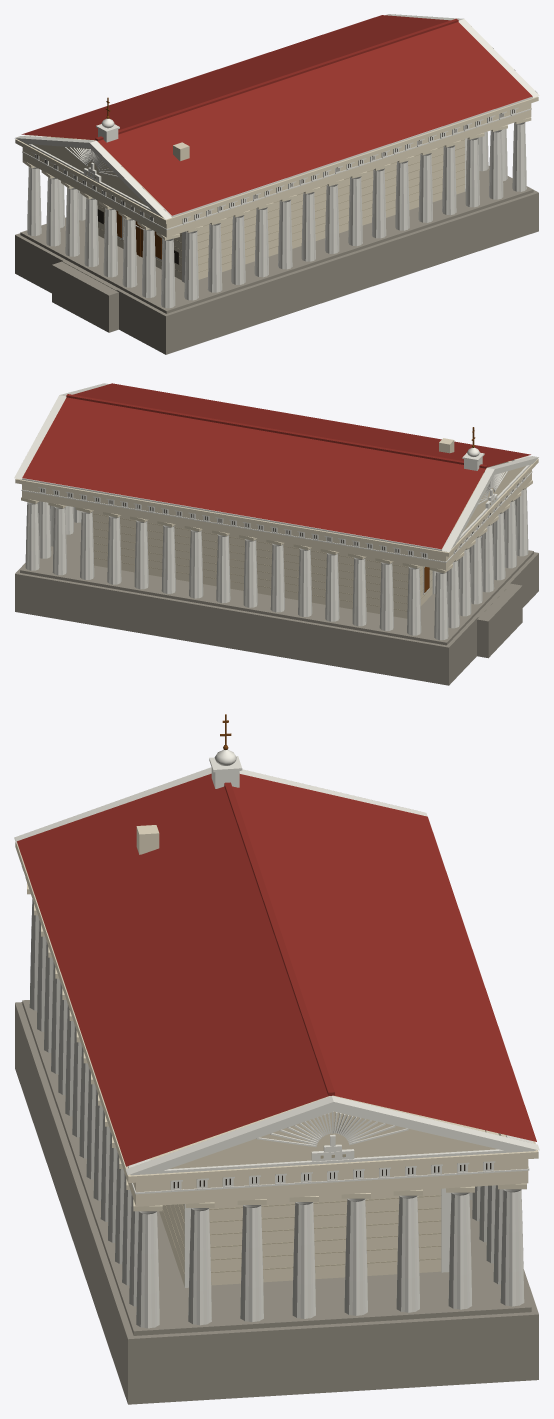
The model's file is petropavl_hram.glb.
3 views of the same model, one above another, from view 1: azimuth 30°, elevation 25°; view 2: azimuth 150°, elevation 25°; view 3: azimuth 270°, elevation 25° (orthographic). The views are drawn at different scales.
Parts seen in each view (by area): view 1: petropavl_hram_roof, petropavl_hram_trim, petropavl_hram_stone, petropavl_hram_wall, petropavl_hram_wall2, petropavl_hram_wood, petropavl_hram_metal; view 2: petropavl_hram_roof, petropavl_hram_stone, petropavl_hram_trim, petropavl_hram_wall, petropavl_hram_wall2; view 3: petropavl_hram_roof, petropavl_hram_stone, petropavl_hram_trim, petropavl_hram_wall, petropavl_hram_wall2.
Part boxes in pixels (left/top/right/bottom): petropavl_hram_roof: left=21, top=15, right=532, bottom=215; petropavl_hram_trim: left=15, top=14, right=539, bottom=308; petropavl_hram_stone: left=15, top=160, right=538, bottom=354; petropavl_hram_wall: left=15, top=96, right=538, bottom=280; petropavl_hram_wall2: left=86, top=139, right=464, bottom=272; petropavl_hram_wood: left=105, top=97, right=161, bottom=259; petropavl_hram_metal: left=35, top=109, right=514, bottom=264; petropavl_hram_roof: left=22, top=383, right=530, bottom=549; petropavl_hram_stone: left=15, top=522, right=538, bottom=685; petropavl_hram_trim: left=14, top=383, right=538, bottom=640; petropavl_hram_wall: left=15, top=438, right=538, bottom=618; petropavl_hram_wall2: left=93, top=498, right=495, bottom=611; petropavl_hram_roof: left=17, top=773, right=536, bottom=1166; petropavl_hram_stone: left=15, top=1000, right=538, bottom=1404; petropavl_hram_trim: left=14, top=749, right=539, bottom=1328; petropavl_hram_wall: left=15, top=825, right=538, bottom=1286; petropavl_hram_wall2: left=162, top=1154, right=441, bottom=1273.
Bounding box in the file's own units: 38.29 × 17.55 × 23.44.
